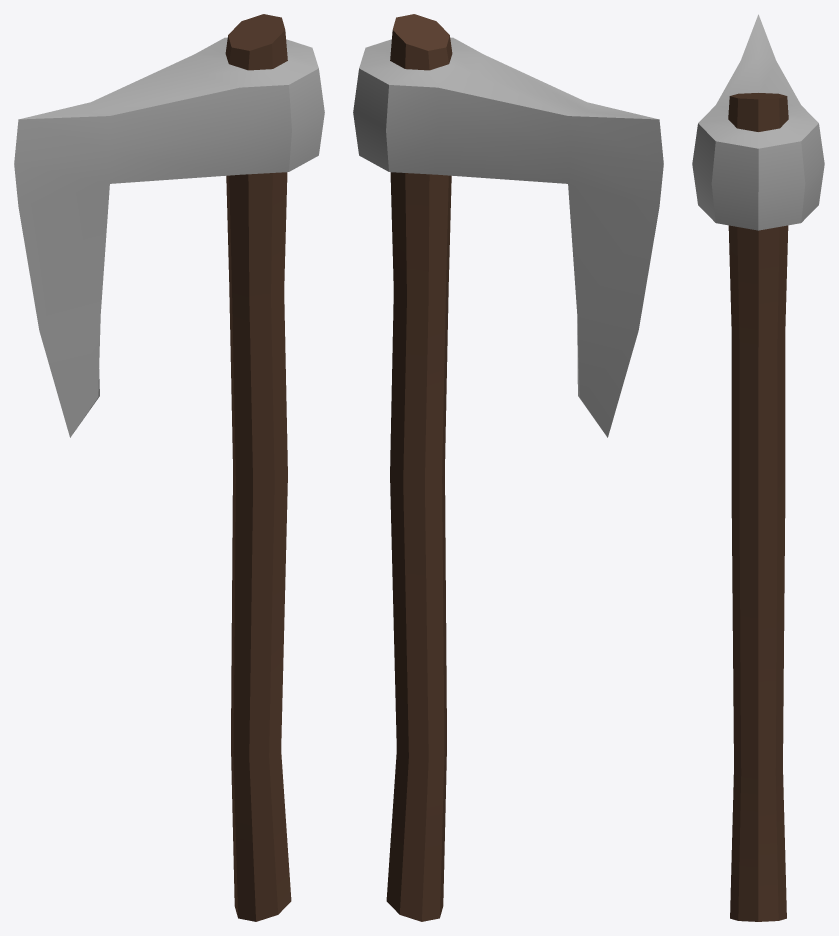
Rendered from WarAxe.fbx.
3 renders of one model, left to right at view 1: azimuth 30°, elevation 25°; view 2: azimuth 150°, elevation 25°; view 3: azimuth 270°, elevation 25°, orthographic. The views are drawn at different scales.
Visible parts, largest first — view 1: KampfAxt; view 2: KampfAxt; view 3: KampfAxt.
Part boxes in pixels (x1,y1,x2,y2): KampfAxt: [14, 14, 324, 921]; KampfAxt: [353, 14, 663, 921]; KampfAxt: [692, 14, 824, 921].
Size of the model in its own units: 106 by 296 by 42.46.
